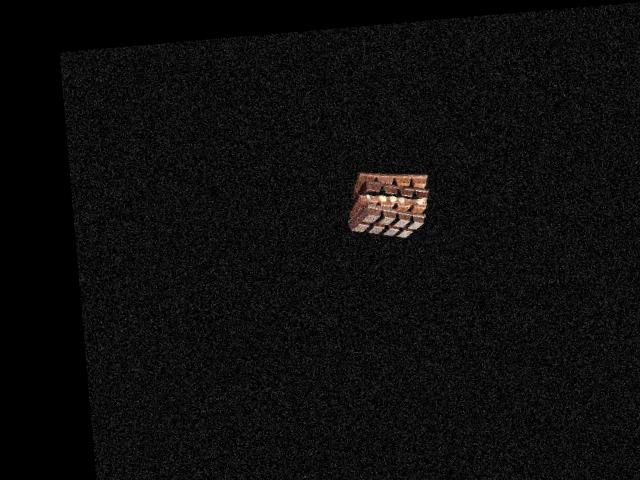chocolate: (349, 164, 431, 241)
